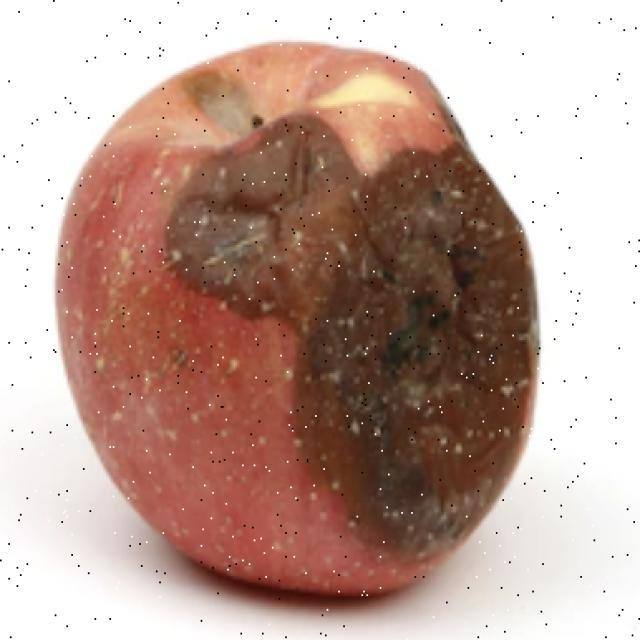Rotten: (62, 50, 533, 593)
